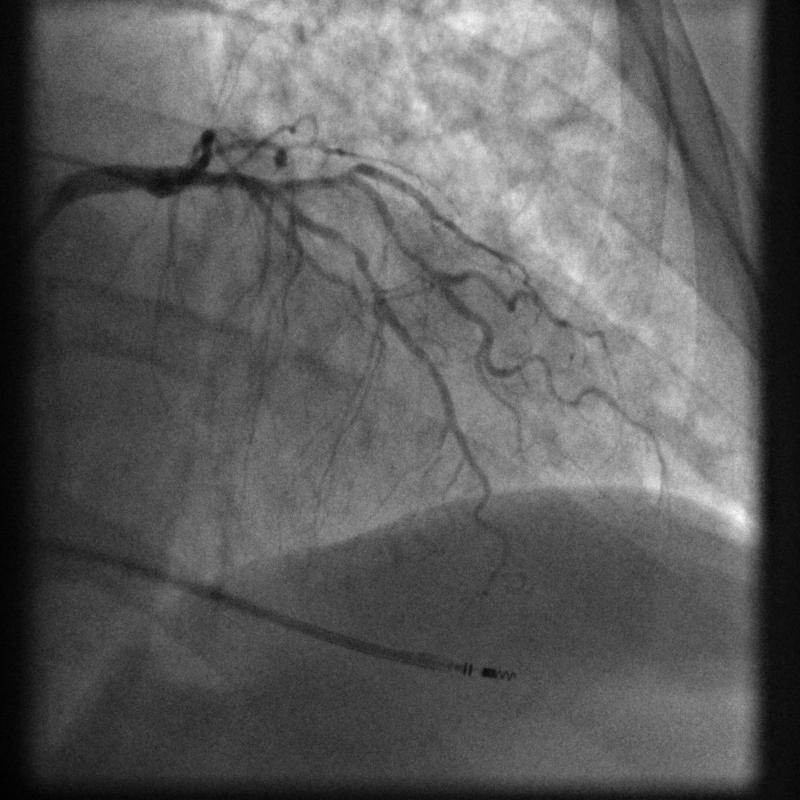Stenosis: (328, 228, 366, 275)
